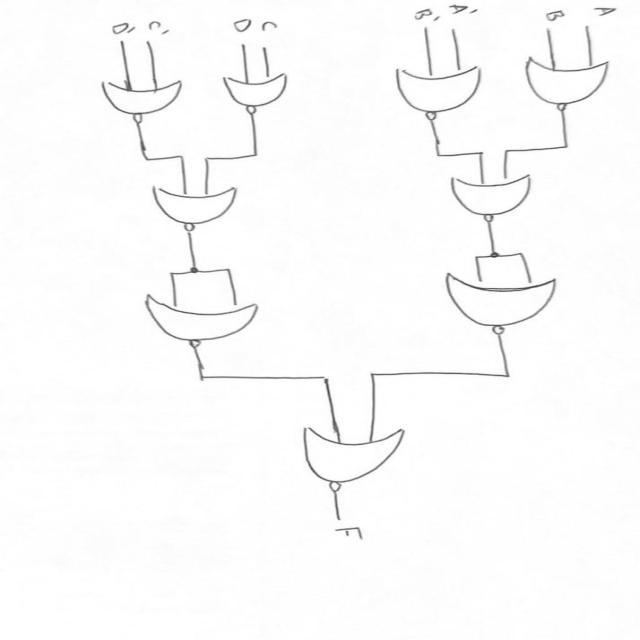NOR: (278, 424, 428, 496), (117, 287, 277, 353), (430, 268, 569, 338), (374, 63, 491, 125), (426, 171, 549, 225), (513, 56, 621, 116), (144, 180, 254, 237), (85, 72, 193, 127), (215, 70, 305, 119)
